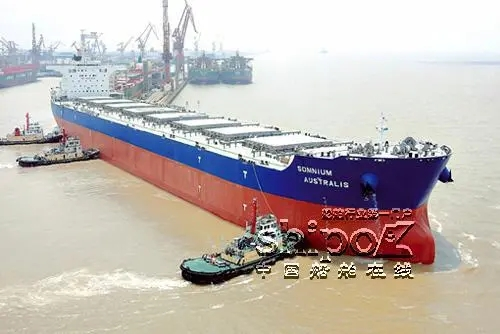Cargoship: (46, 50, 451, 267)
otherboat: (178, 208, 297, 285), (11, 130, 99, 169), (1, 116, 66, 146)
